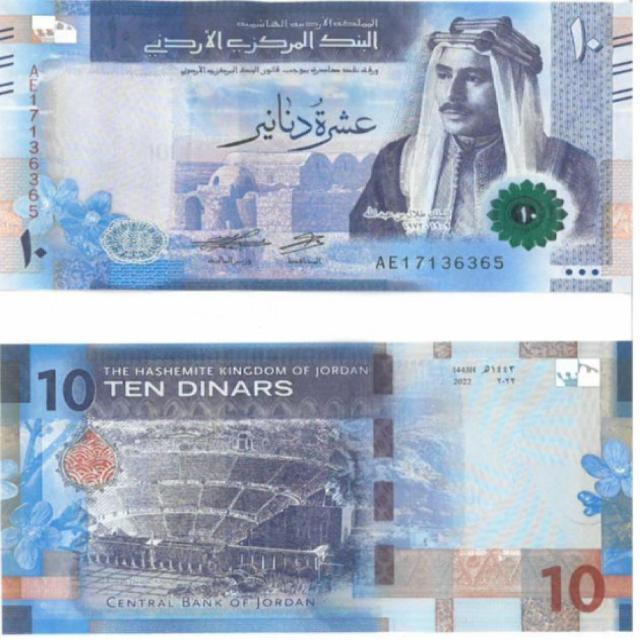10-dinar: (0, 338, 638, 632), (0, 0, 640, 292)
